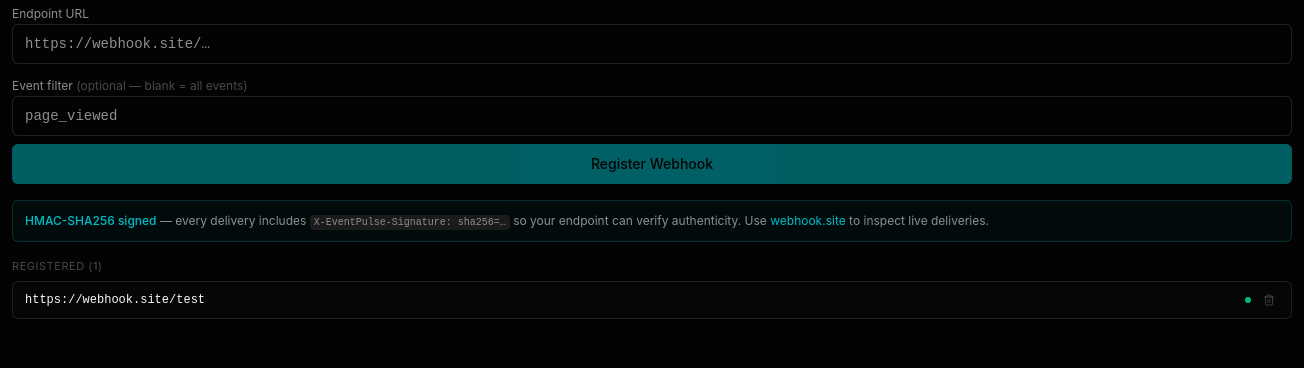
it: WebhookPanel › shows error alert when delete fails
The image size is (1304, 368).
Click the button named "Delete webhook" at (1269, 300), box [1259,290,1279,310]
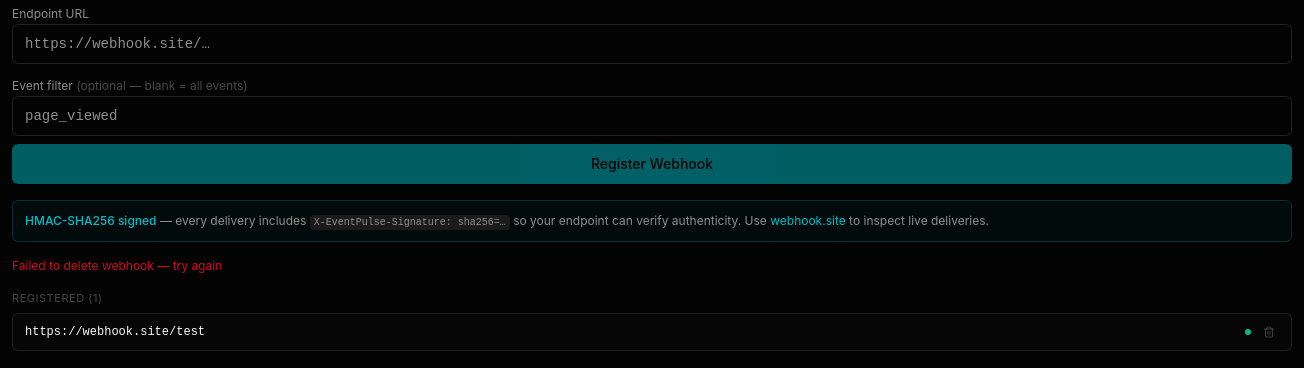
Expected: the message "Failed to delete webhook — try again" is shown, [12,258,222,273]
